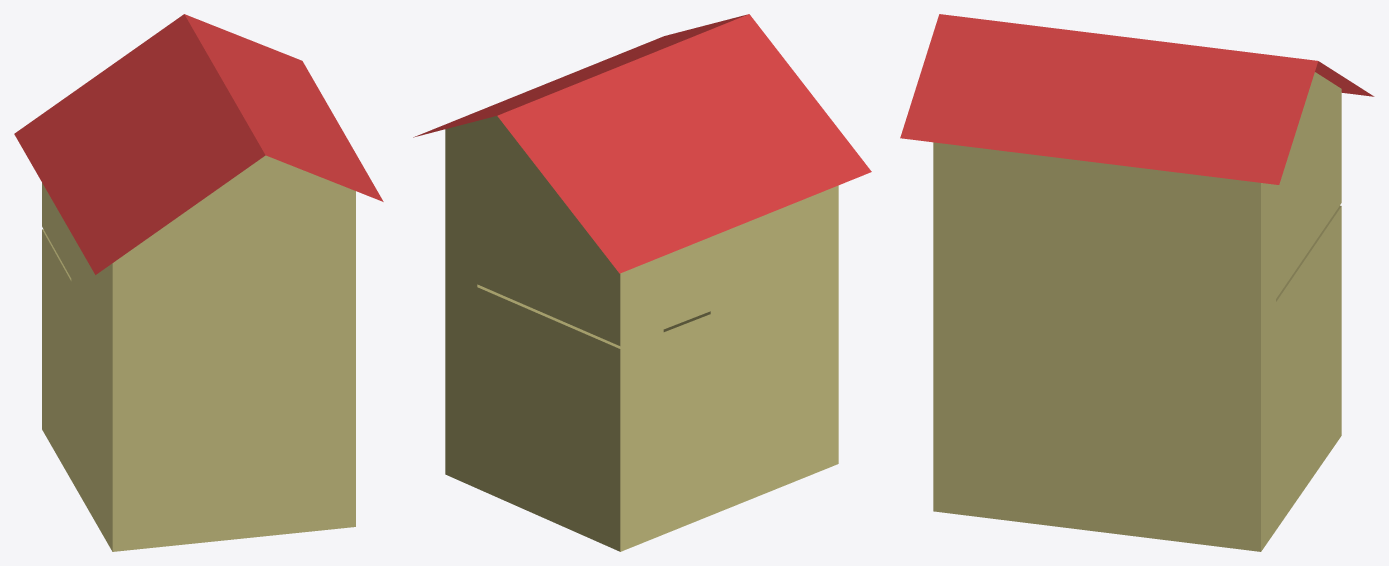
The picture shows the model from 3 angles, left to right: view 1: azimuth 30°, elevation 25°; view 2: azimuth 150°, elevation 25°; view 3: azimuth 270°, elevation 25°; orthographic projection. The views are drawn at different scales.
Bounding box in the file's own units: 12.33 × 13.37 × 13.94.
